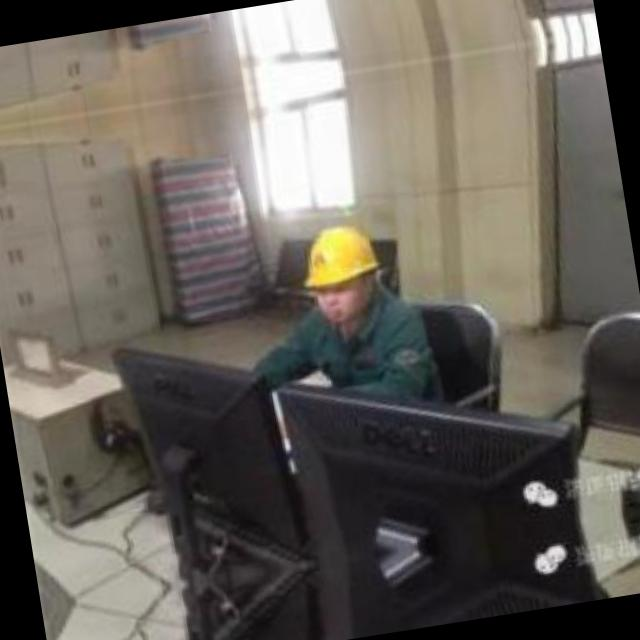helmet: (290, 214, 388, 330)
